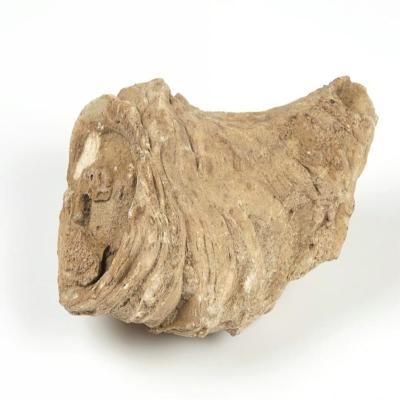natural_science_collection: (56, 76, 380, 340)
